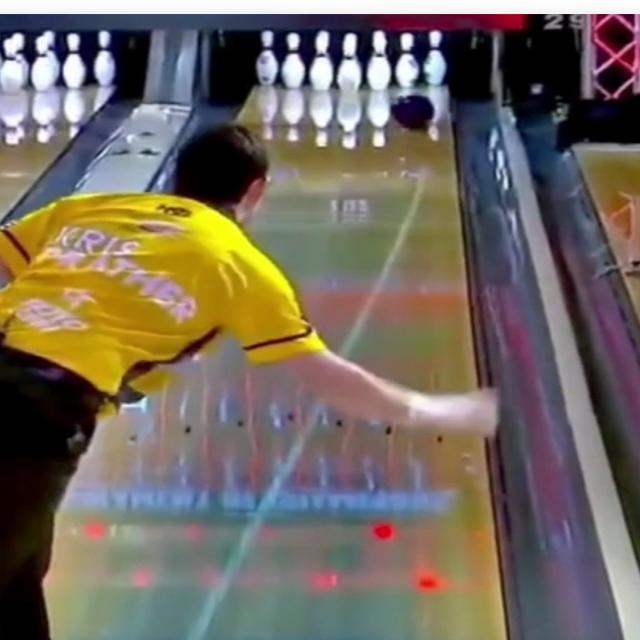alley: (47, 338, 505, 639), (238, 87, 476, 392)
balls: (390, 94, 434, 130)
bottle: (255, 30, 446, 90)
